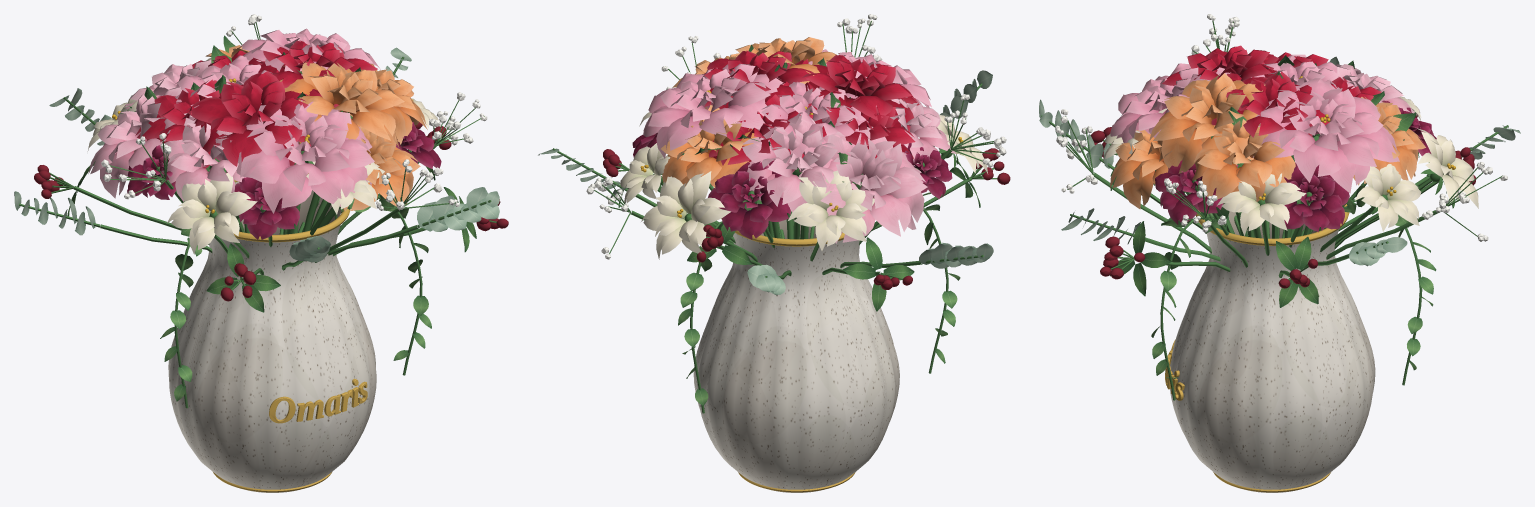
Rendered from omaris.glb.
The picture shows the model from 3 angles, left to right: view 1: azimuth 30°, elevation 25°; view 2: azimuth 150°, elevation 25°; view 3: azimuth 270°, elevation 25°; orthographic projection.
Visible parts, largest first — view 1: vase, peony, roseCrimson, roseApricot, roseBlush, stem, lisianthus, eucalyptus, ranunculus, gold, vineLeaf, roseLeaf (+2 smaller); view 2: vase, roseBlush, peony, lisianthus, roseCrimson, roseApricot, ranunculus, stem, eucalyptus, roseLeaf, vineLeaf, babysBreath (+2 smaller); view 3: vase, roseApricot, peony, lisianthus, stem, roseCrimson, ranunculus, eucalyptus, roseLeaf, babysBreath, vineLeaf, gold (+2 smaller).
Part boxes in pixels (left/top/right/bottom): vase: left=168, top=225, right=376, bottom=492; peony: left=175, top=28, right=380, bottom=213; roseCrimson: left=135, top=40, right=377, bottom=168; roseApricot: left=205, top=45, right=427, bottom=211; roseBlush: left=88, top=59, right=245, bottom=210; stem: left=19, top=22, right=496, bottom=408; lisianthus: left=87, top=58, right=441, bottom=254; eucalyptus: left=14, top=47, right=499, bottom=262; ranunculus: left=127, top=122, right=441, bottom=239; gold: left=213, top=180, right=367, bottom=492; vineLeaf: left=160, top=194, right=431, bottom=401; roseLeaf: left=67, top=35, right=476, bottom=312; vase: left=693, top=233, right=899, bottom=492; roseBlush: left=741, top=97, right=956, bottom=243; peony: left=642, top=49, right=931, bottom=167; lisianthus: left=620, top=112, right=988, bottom=259; roseCrimson: left=702, top=50, right=919, bottom=185; roseApricot: left=661, top=37, right=836, bottom=188; ranunculus: left=632, top=128, right=952, bottom=239; stem: left=552, top=21, right=997, bottom=413; eucalyptus: left=538, top=70, right=993, bottom=295; roseLeaf: left=618, top=44, right=980, bottom=311; vineLeaf: left=678, top=192, right=960, bottom=405; babysBreath: left=586, top=14, right=1006, bottom=259; vase: left=1170, top=229, right=1375, bottom=492; roseApricot: left=1110, top=73, right=1425, bottom=209; peony: left=1110, top=55, right=1399, bottom=193; lisianthus: left=1102, top=77, right=1478, bottom=235; stem: left=1041, top=20, right=1508, bottom=400; roseCrimson: left=1161, top=45, right=1381, bottom=137; ranunculus: left=1155, top=100, right=1436, bottom=232; eucalyptus: left=1039, top=56, right=1520, bottom=266; roseLeaf: left=1110, top=55, right=1454, bottom=307; babysBreath: left=1055, top=14, right=1507, bottom=241; vineLeaf: left=1151, top=185, right=1436, bottom=378; gold: left=1165, top=204, right=1349, bottom=492.
Bounding box in the file's own units: 0.426 × 0.3918 × 0.4208.
Materials: 17 (10 with a texture image).
